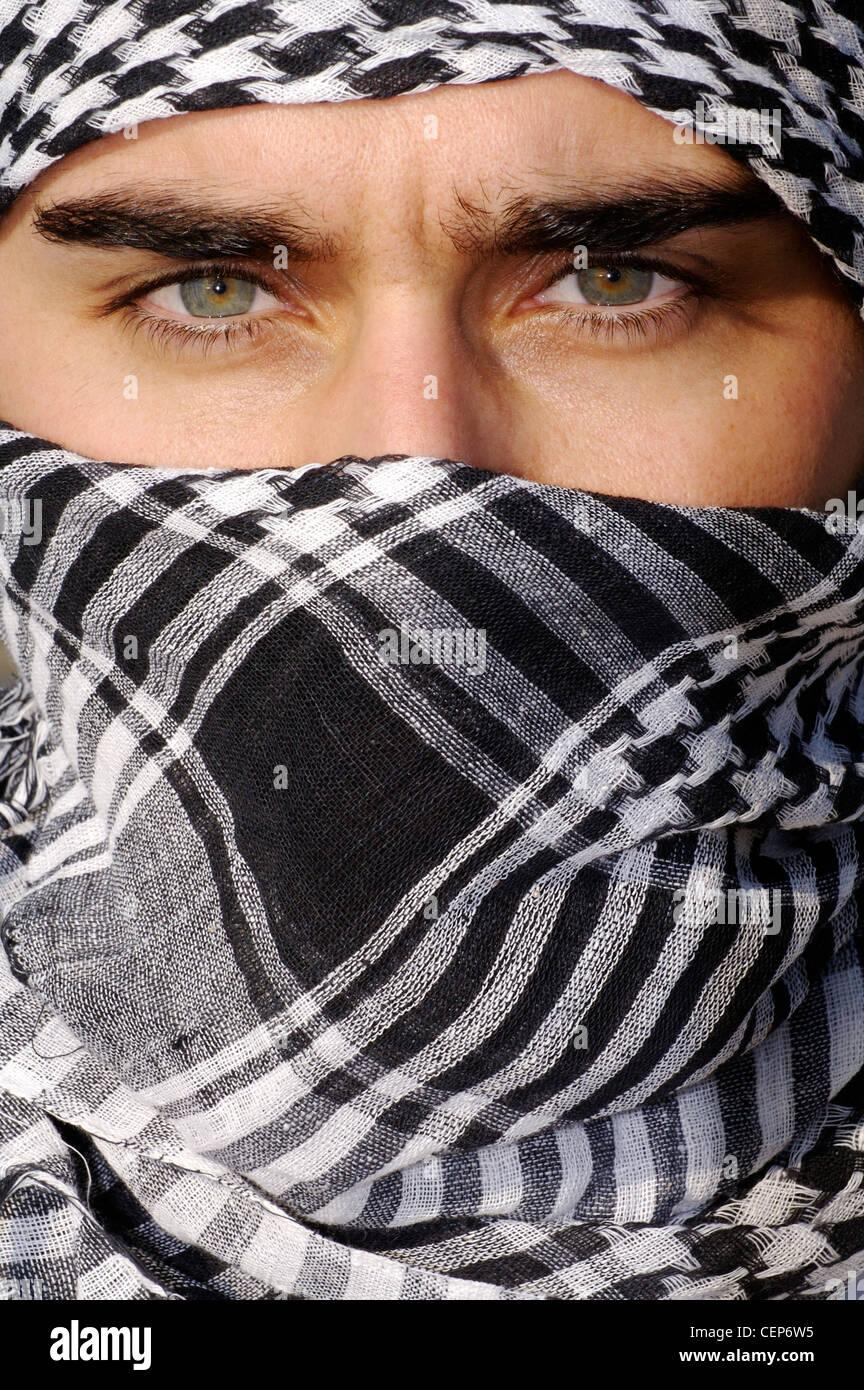cap: (0, 0, 864, 296)
scarf-kerchief: (0, 400, 864, 1253)
